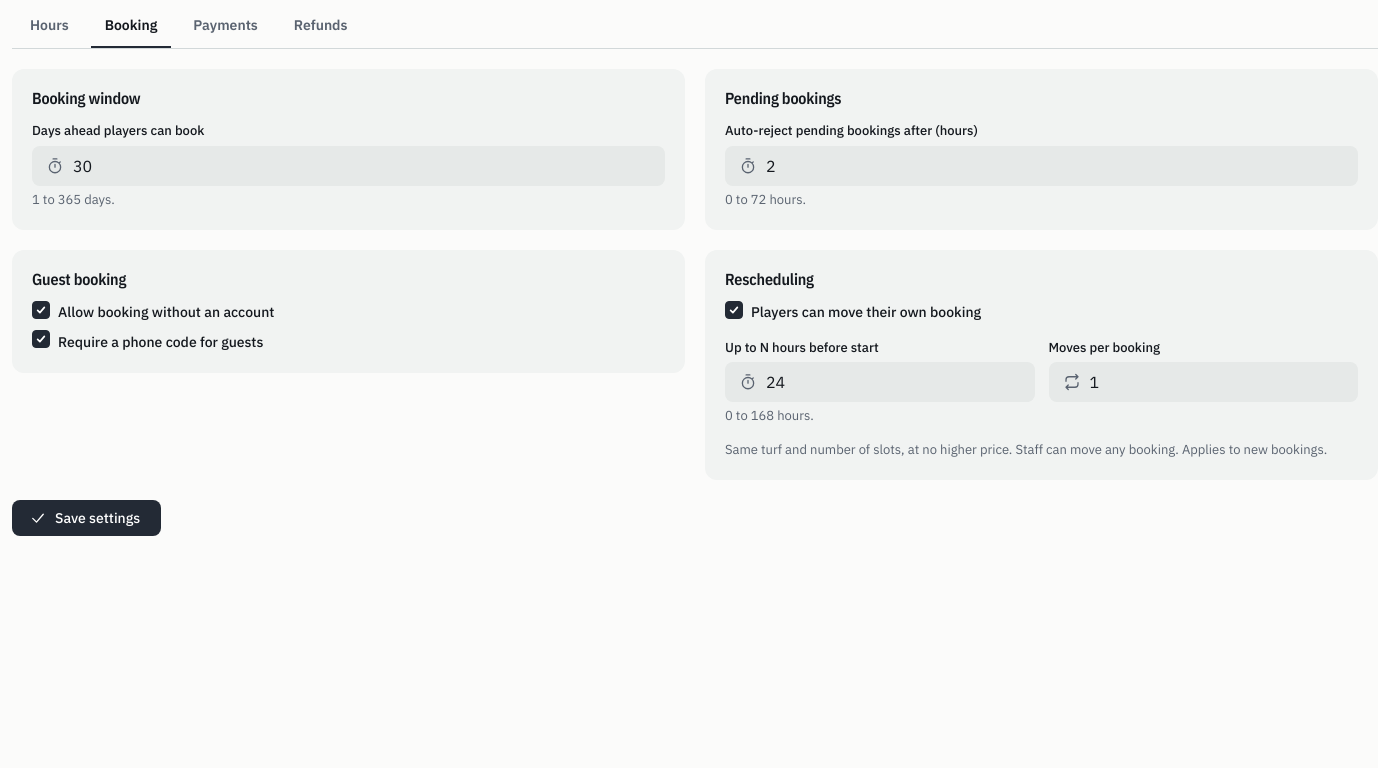
SettingsForm › owner level saves only the changed key and offers no inherit boxes
The width and height of the screenshot is (1378, 768).
Replace the text in the number field labelled "Days ahead players can book" with "45" at coordinates (348, 166), box [32,146,665,186]
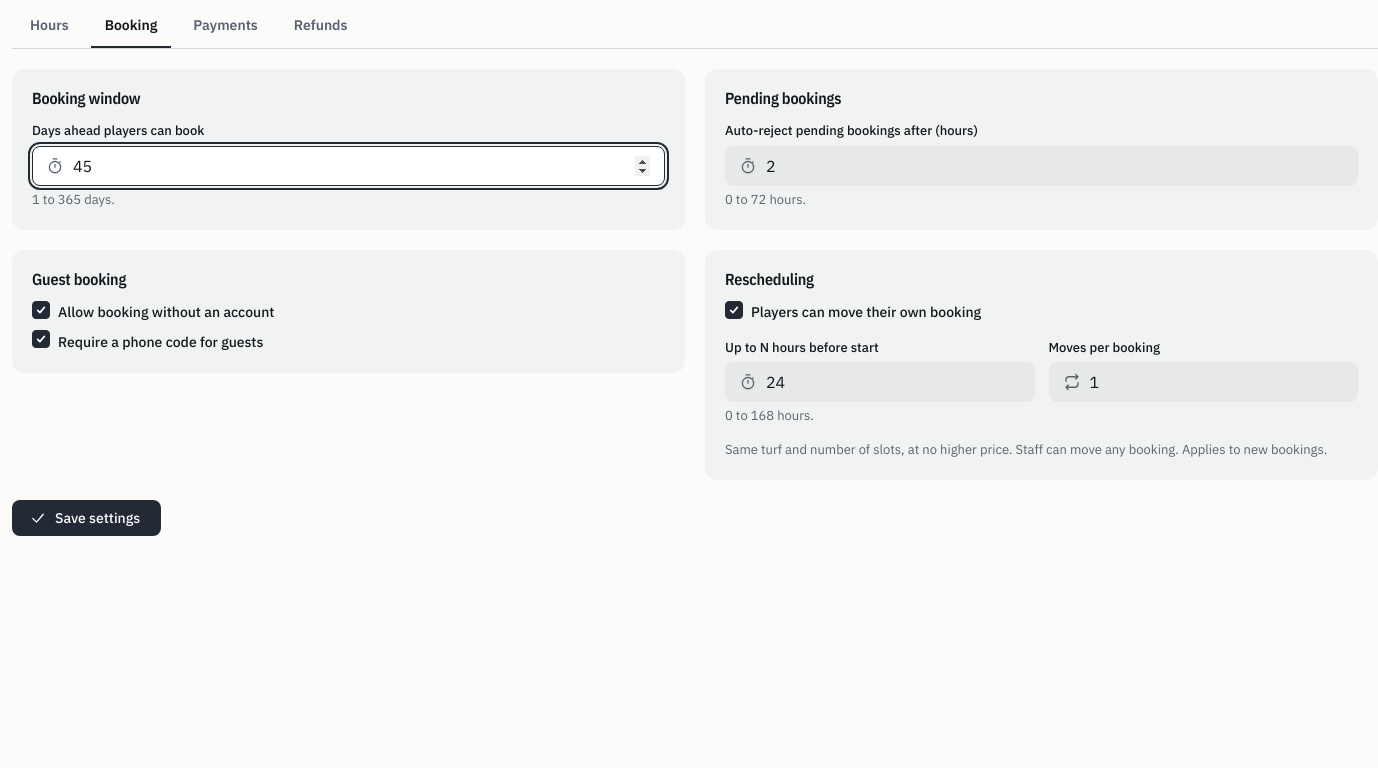
Click the button "Save settings" at coordinates (87, 518), box [12,500,161,536]
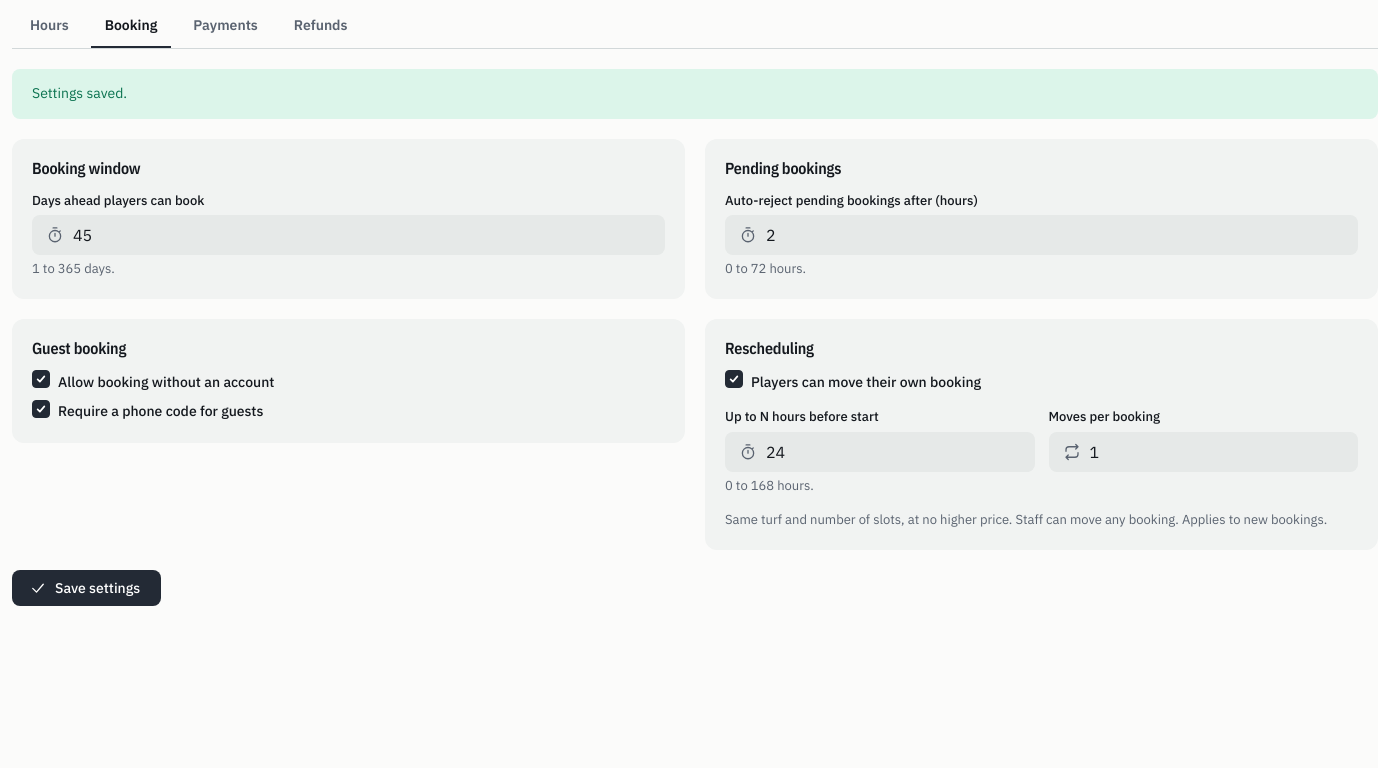
Check: the text "Settings saved." is shown, box [12,69,1377,119]
